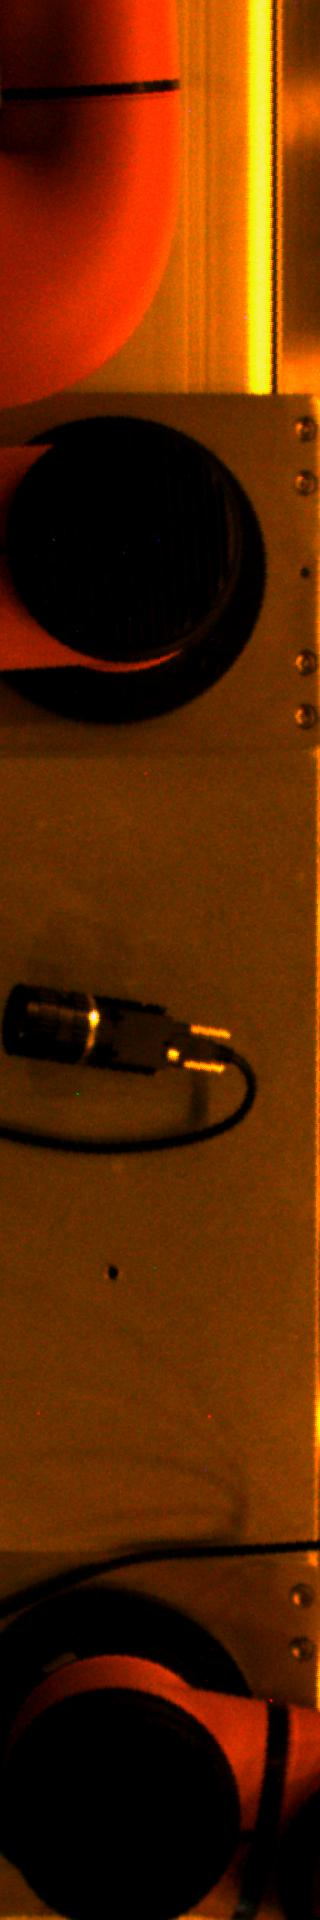keyPoint_2: (97, 1258, 128, 1287)
